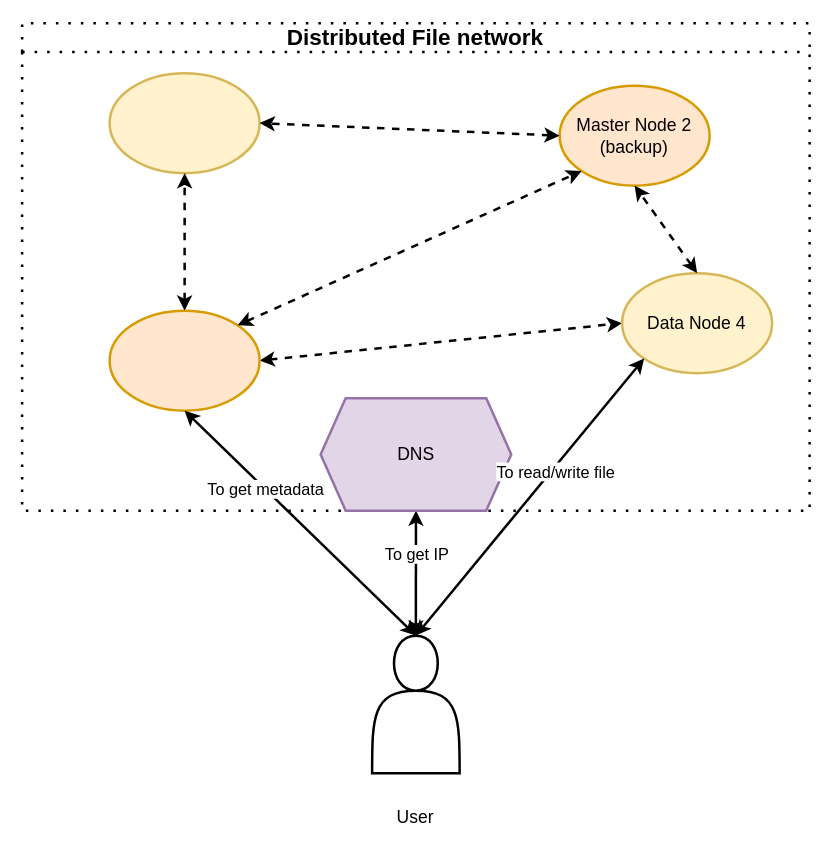
Some shapes in this 833 by 856 pixel diagram are drawn without their labels. The box of each missing label's shape, as (x1, y1, x2, y2) in pixels:
Data Node 1: (108, 71, 260, 174)
Master Node 1: (108, 309, 260, 411)
